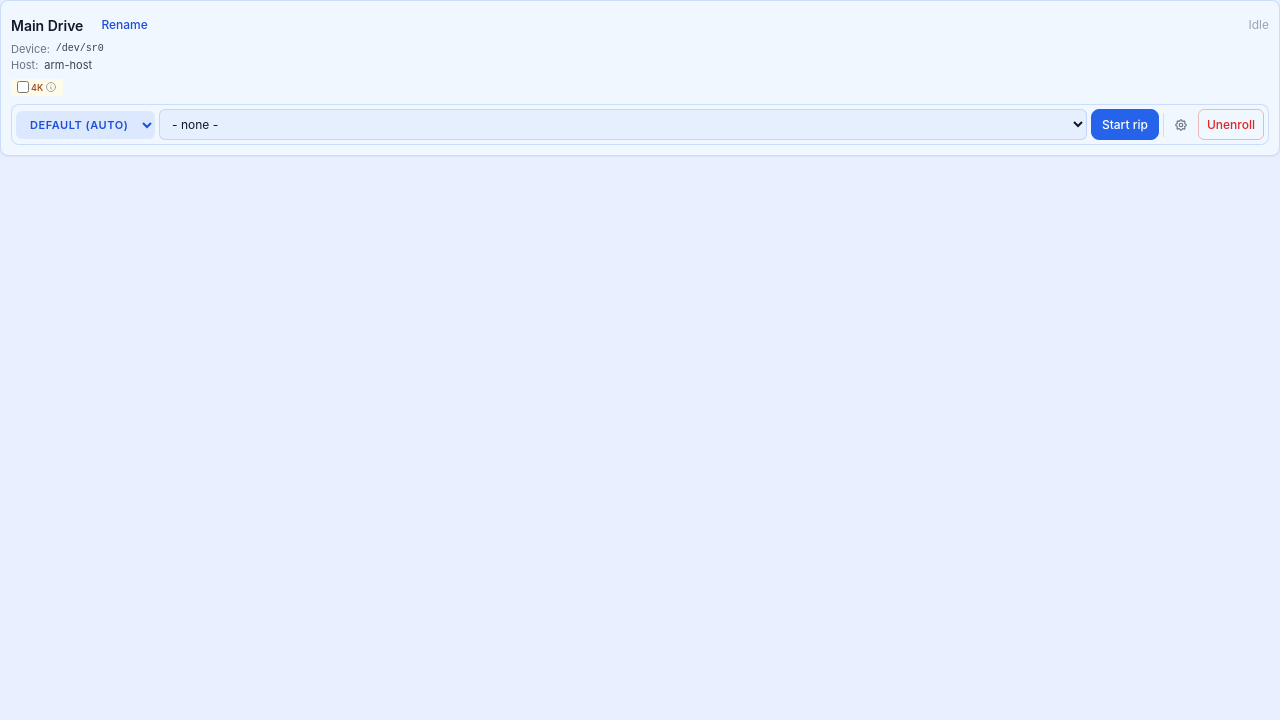
Test case: DriveCard › prescan settings panel › shows prescan inputs in settings panel
Step 1. Click the button titled "Drive settings" → click(1181, 125), box x1=1168 y1=112 x2=1194 y2=138
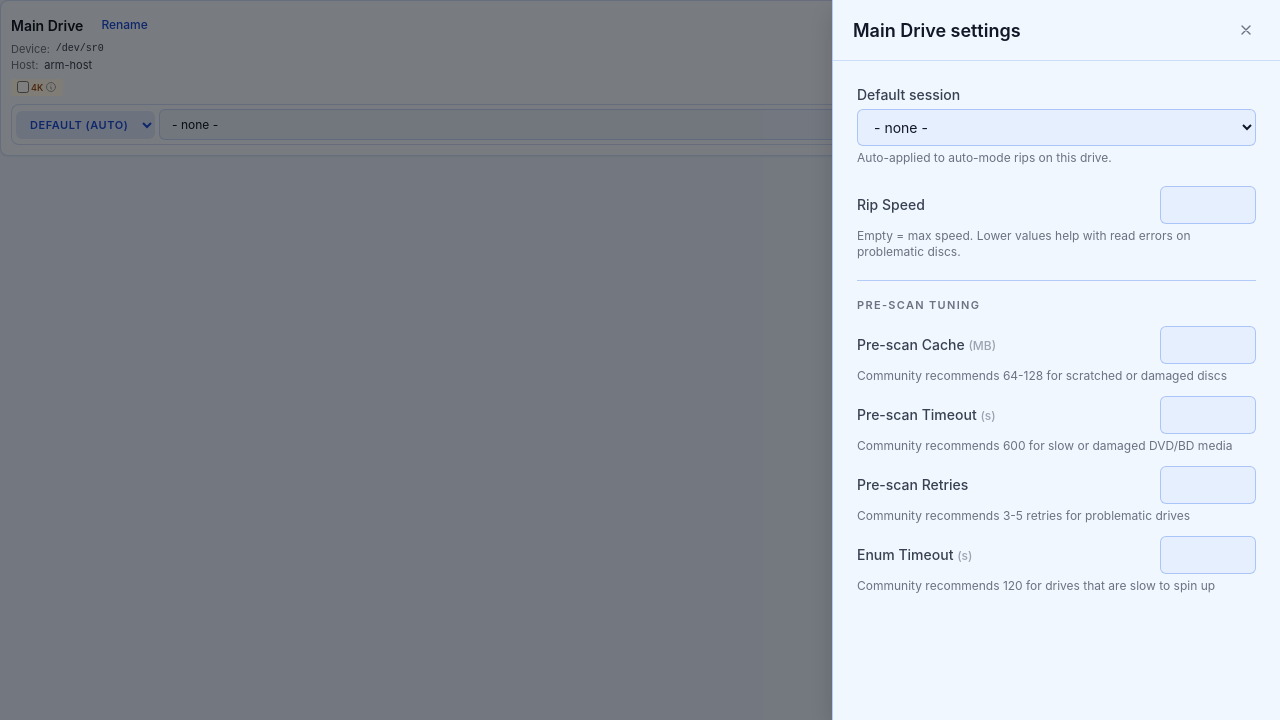
Now the heading "Main Drive settings" is shown, box x1=853 y1=16 x2=1021 y2=44
Now the text "Pre-scan Cache" is shown, box x1=857 y1=336 x2=965 y2=352
Now the text "Pre-scan Timeout" is shown, box x1=857 y1=406 x2=977 y2=422
